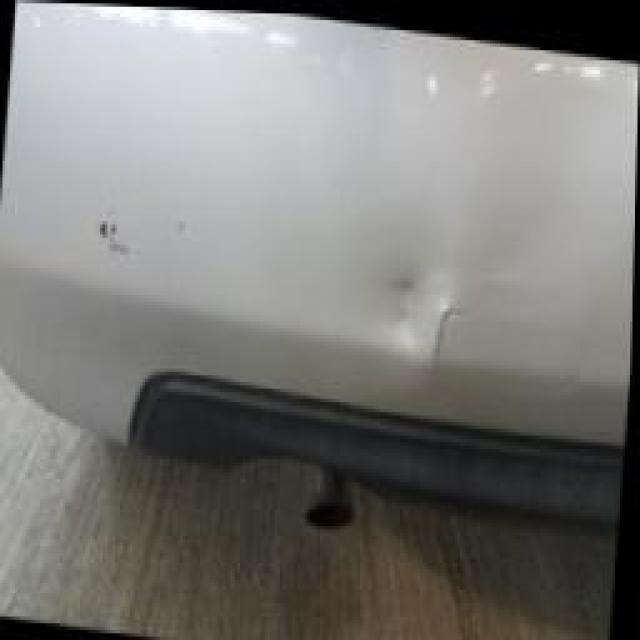Bumper: (60, 154, 501, 443)
